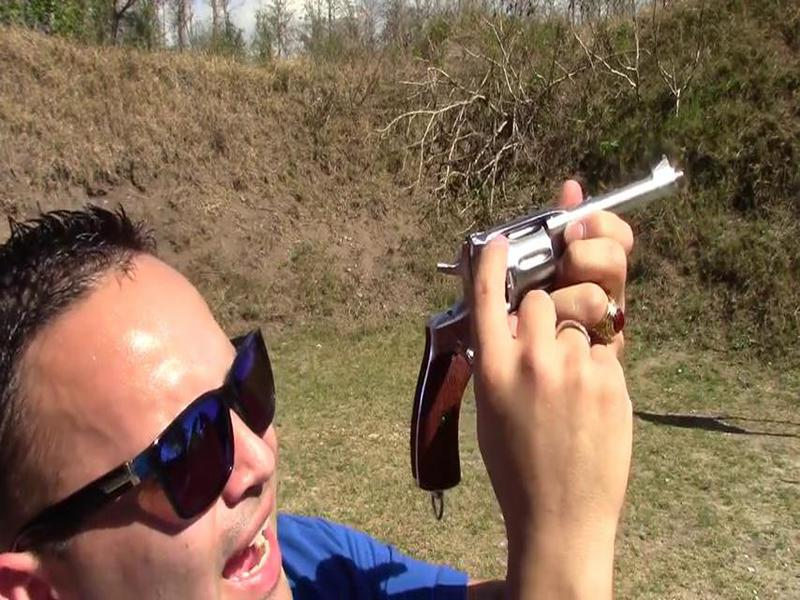Revolver: (399, 147, 707, 516)
